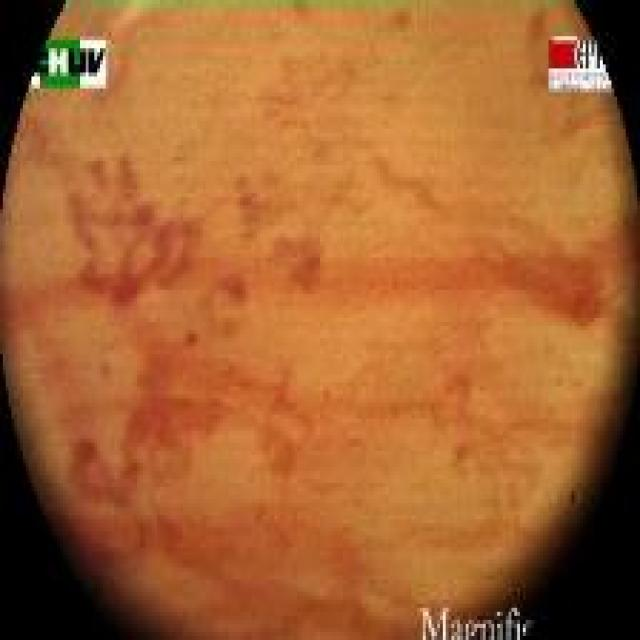color misalignment: (547, 32, 613, 97), (29, 36, 108, 89), (419, 604, 532, 640), (567, 489, 581, 510)
